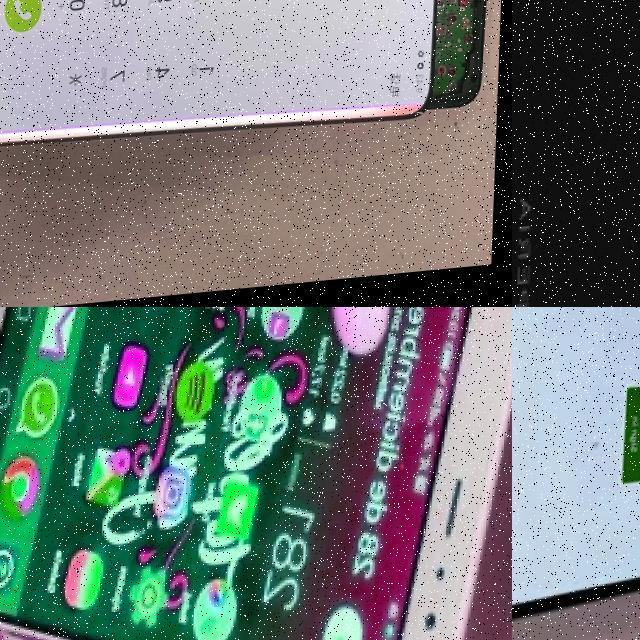dead pixel: (583, 428, 616, 468)
